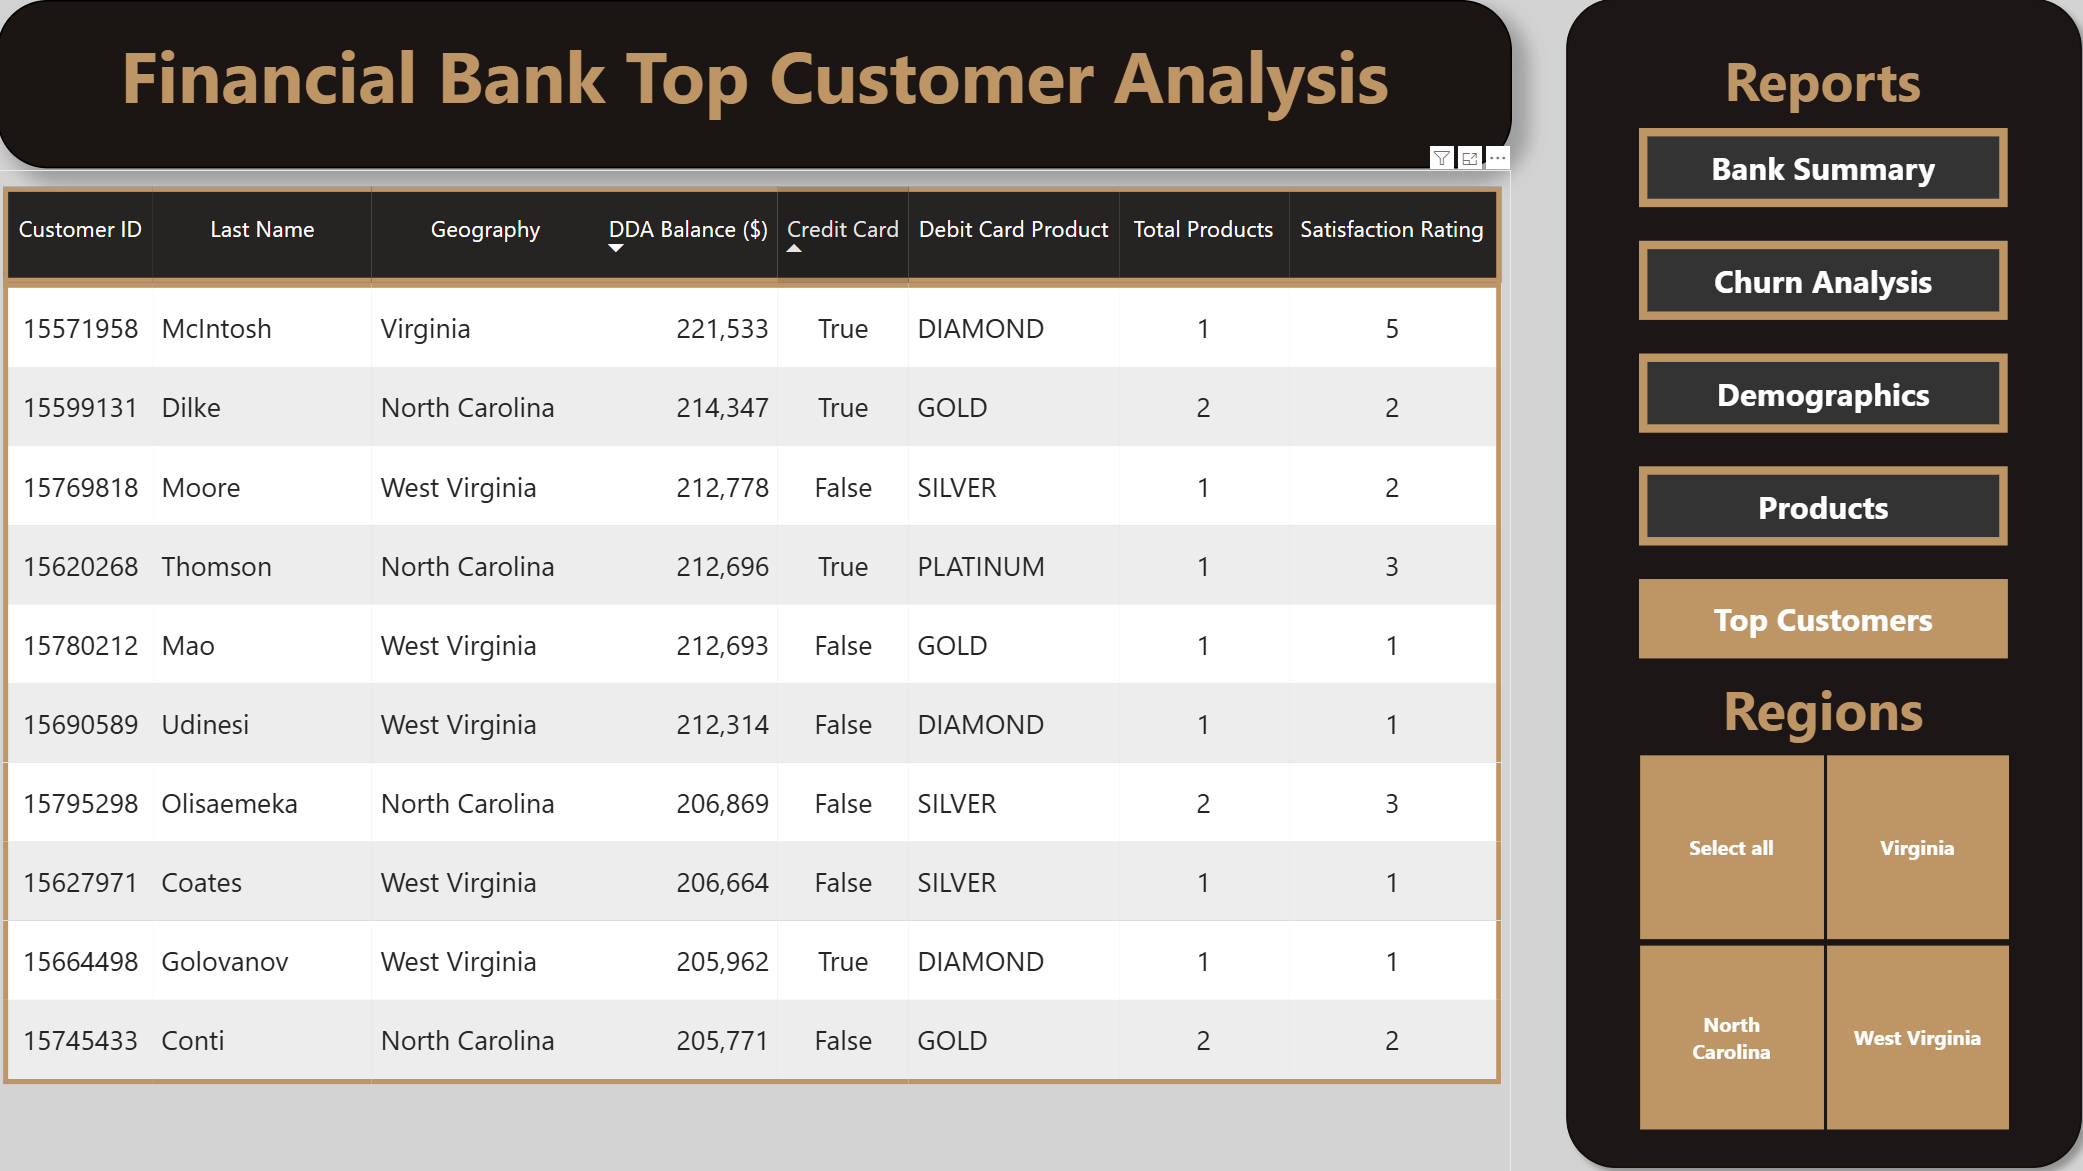

The page's visual inventory and layout, read from the dashboard file:
{"tool":"powerbi","page":{"name":"Top Customers","canvas":[1280,720],"ordinal":4},"visuals":[{"type":"textbox","box":[16.7,13.3,900,100],"z":0},{"type":"shape","box":[939.9,3,324.4,713],"z":1000},{"type":"slicer","title":"Regions","fields":{"Values":["BankData.Geography"]},"box":[971.7,406.8,259,283.9],"z":2000},{"type":"textbox","box":[976.1,38,250.2,49.8],"z":3000},{"type":"pageNavigator","box":[992.2,89.3,219.5,316.1],"z":5000},{"type":"tableEx","title":"Top Customers by DDA Balance","fields":{"Values":["BankData.CustomerId","BankData.Surname","BankData.Geography","BankData.Balance","BankData.HasCrCard","BankData.CardType","Sum(BankData.NumOfProducts)","Sum(BankData.SatisfactionScore)"]},"box":[14,114,902.2,606.9],"z":6000}]}

Visuals, with their boxes in screenshot pixels (x1, y1, x2, y2), scaled from the page's 1280x720 canvas onto the 2083x1171 screenshot:
textbox: select_region(27, 22, 1492, 184)
shape: select_region(1530, 5, 2057, 1164)
"Regions" slicer: select_region(1581, 662, 2003, 1123)
textbox: select_region(1588, 62, 1996, 143)
pageNavigator: select_region(1615, 145, 1972, 659)
"Top Customers by DDA Balance" tableEx: select_region(23, 185, 1491, 1170)
